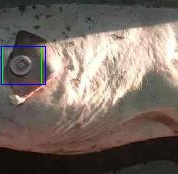text: (2, 46, 41, 84)
